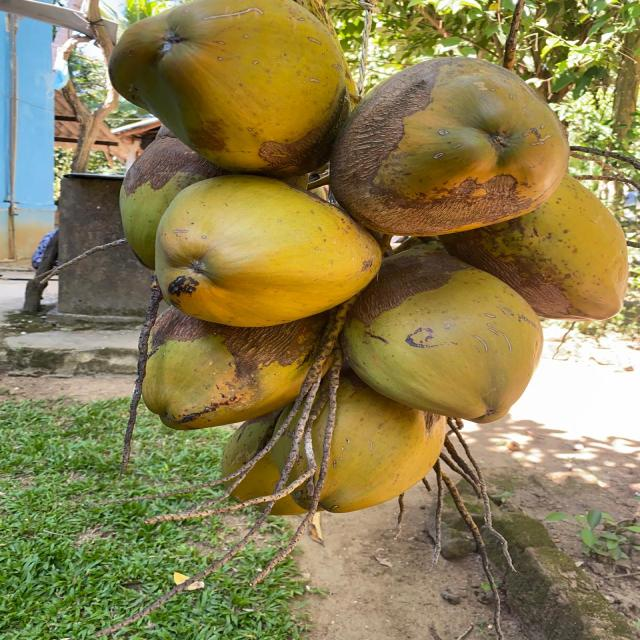coconut: (106, 1, 352, 177), (328, 56, 564, 236), (152, 177, 382, 325), (340, 249, 536, 422), (231, 372, 442, 512), (440, 174, 627, 320), (140, 299, 340, 426), (118, 126, 237, 270)
